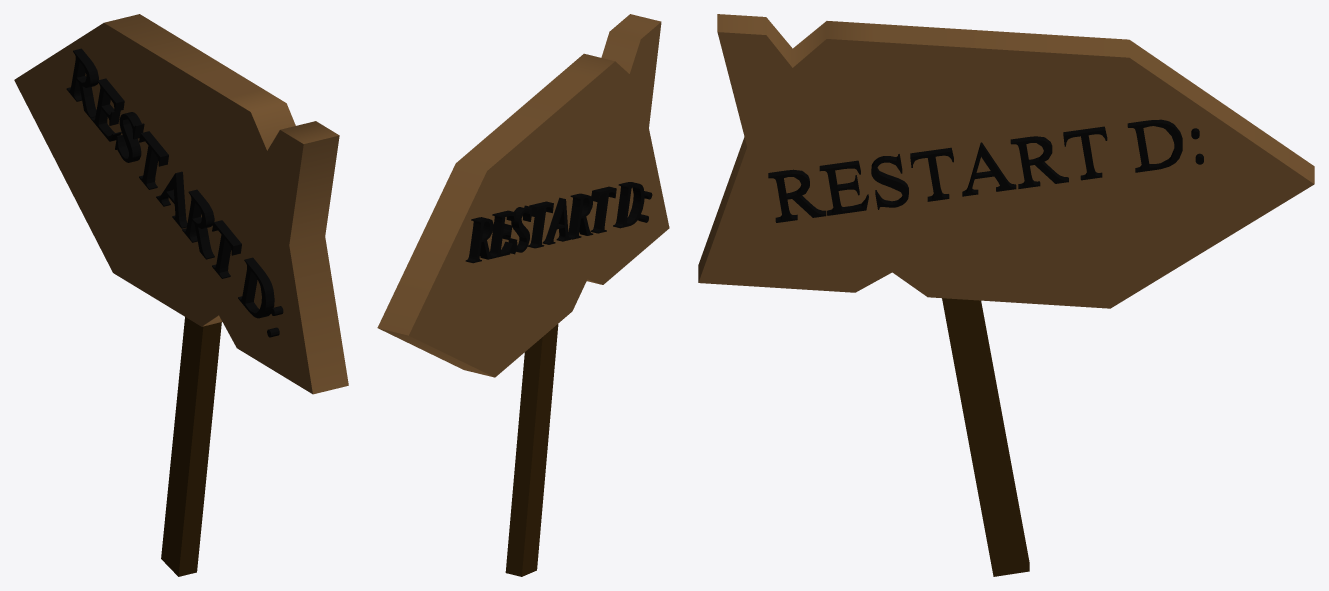
Rendered from Restart_Sign.fbx.
3 views of the same model, side by side, from view 1: azimuth 30°, elevation 25°; view 2: azimuth 150°, elevation 25°; view 3: azimuth 270°, elevation 25° (orthographic). The views are drawn at different scales.
Parts seen in each view (by area): view 1: polySurface1; view 2: polySurface1; view 3: polySurface1.
Boxes of the visible parts, left/top/right/bottom form: polySurface1: left=14, top=14, right=348, bottom=576; polySurface1: left=377, top=14, right=669, bottom=576; polySurface1: left=698, top=14, right=1314, bottom=576.
Size of the model in its own units: 1.53 by 14.17 by 14.41.
